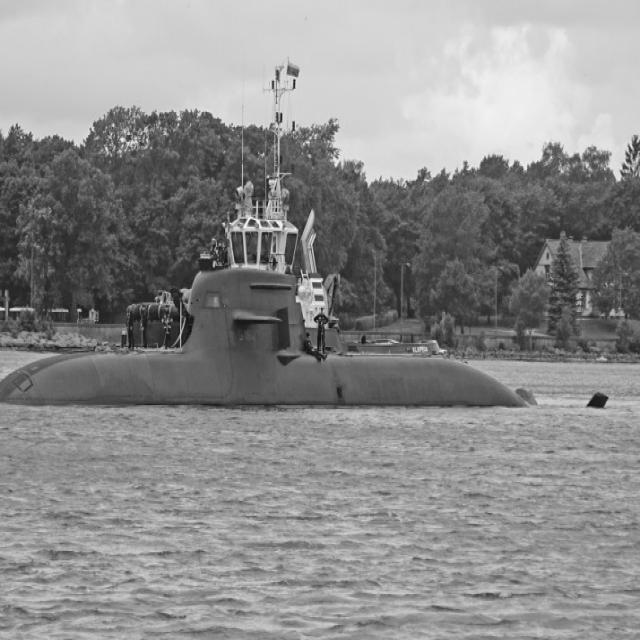submarine: (1, 266, 614, 408)
